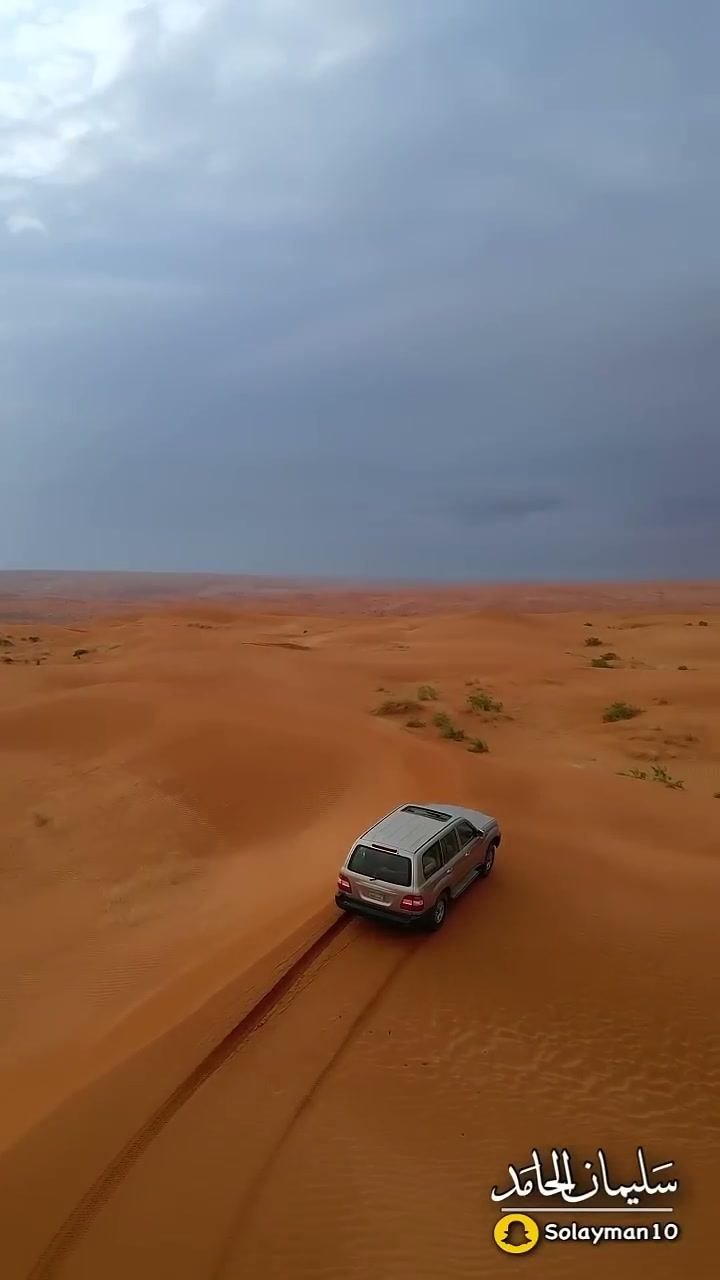vehicle_track: (27, 916, 351, 1279), (211, 939, 421, 1279)
